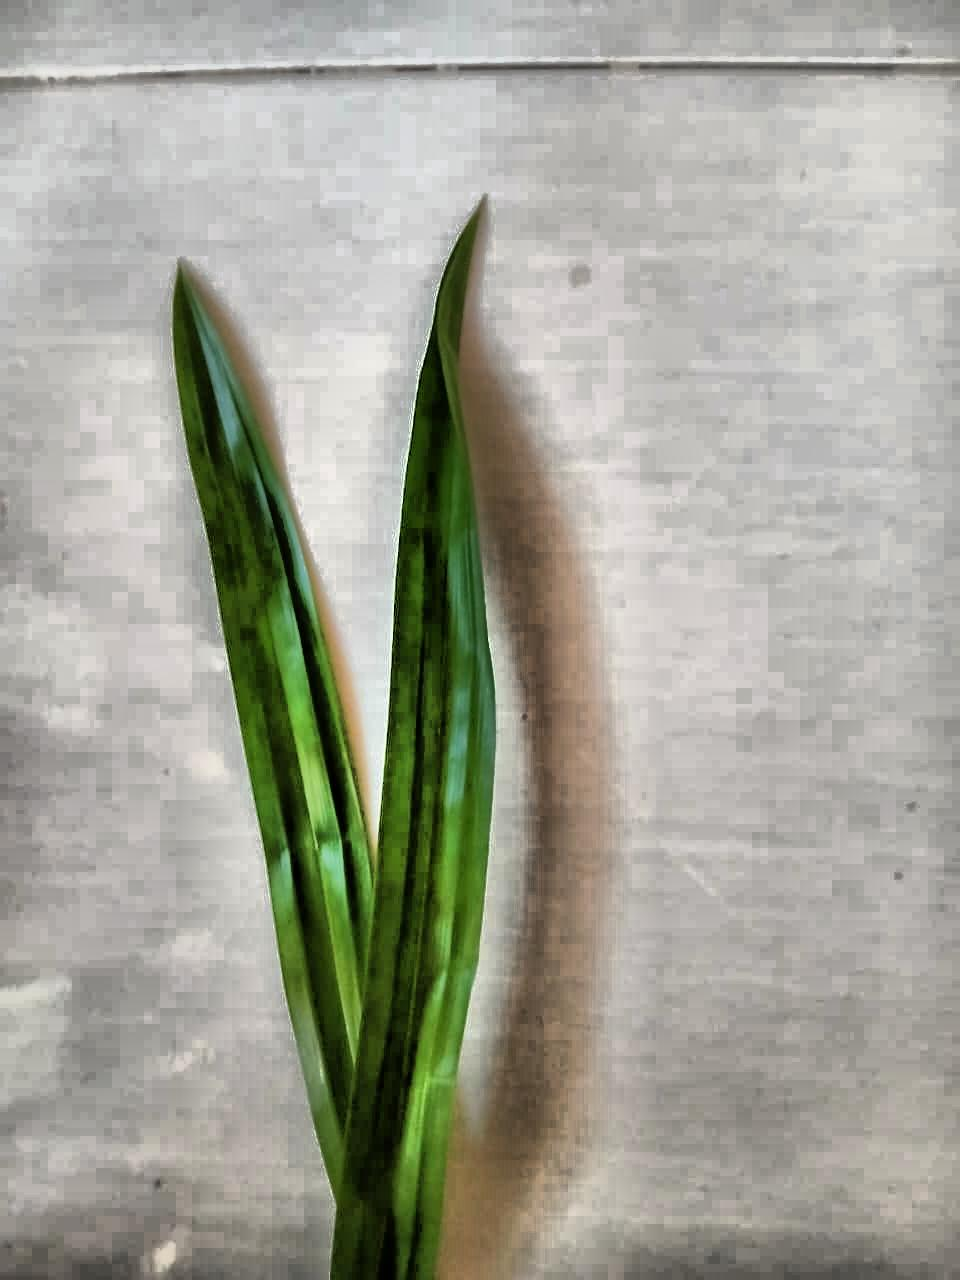daun pandan: (173, 209, 495, 1279)
